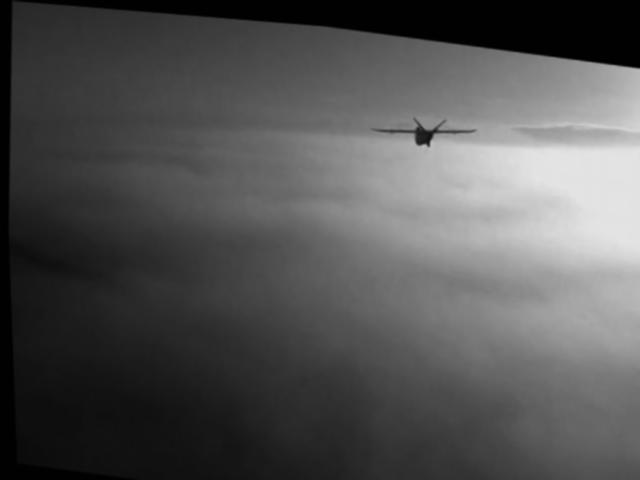hedef: (362, 99, 490, 165)
